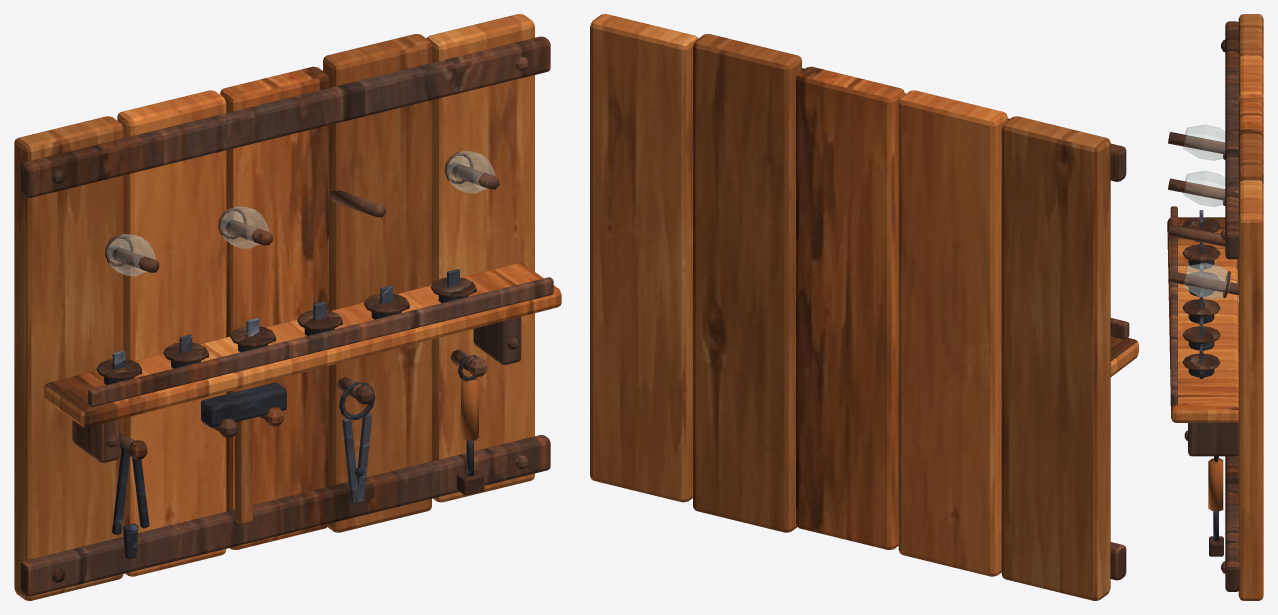
The model's file is lw_lamp_parts_board.glb.
The picture shows the model from 3 angles, left to right: view 1: azimuth 30°, elevation 25°; view 2: azimuth 150°, elevation 25°; view 3: azimuth 270°, elevation 25°; orthographic projection. The views are drawn at different scales.
Parts seen in each view (by area): view 1: model; view 2: model; view 3: model.
Boxes of the visible parts, <box> form: model: <box>14,14,561,600</box>; model: <box>590,14,1138,600</box>; model: <box>1167,14,1263,600</box>.
Bounding box in the file's own units: 1.02 × 0.874 × 0.1938.
12 materials, 9 textured.
